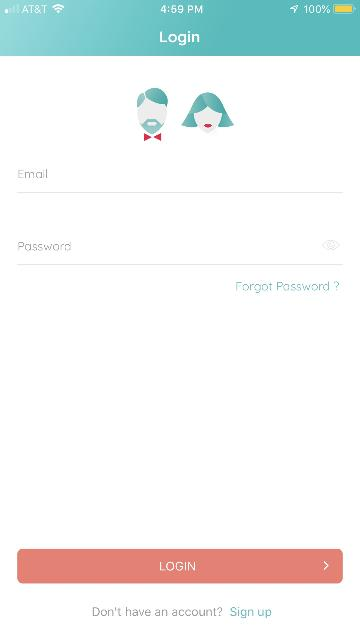EditText: (17, 239, 342, 265), (17, 169, 342, 193)
Icon: (322, 240, 340, 250), (324, 561, 328, 569)
Image: (136, 88, 234, 140)
Text: (92, 606, 222, 616), (236, 281, 338, 293), (160, 30, 200, 46), (230, 606, 272, 618), (18, 242, 70, 250), (160, 562, 196, 570), (19, 170, 47, 178)
TextButton: (17, 548, 342, 584)
UpperTaskBar: (0, 0, 360, 14)
